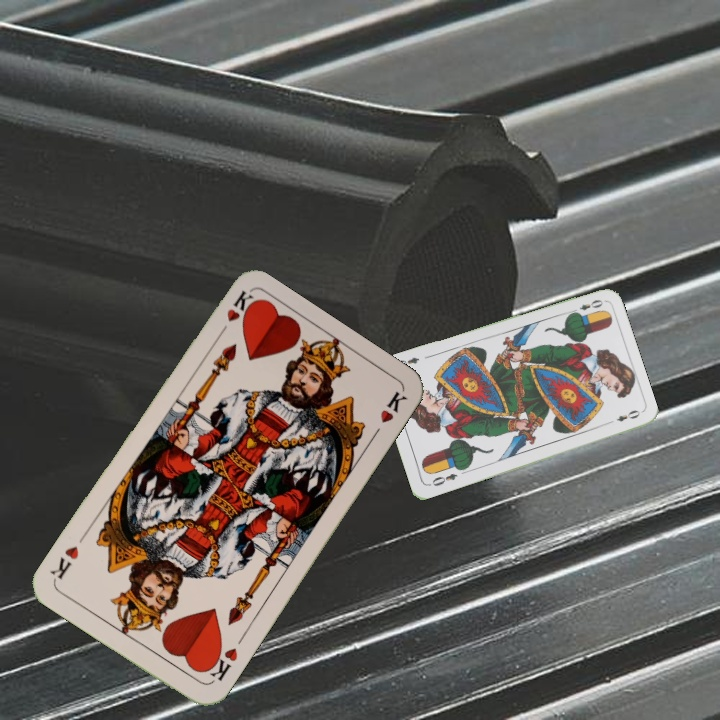EO: (566, 296, 606, 317), (425, 469, 460, 489)
HK: (213, 287, 255, 342), (201, 642, 241, 684)
